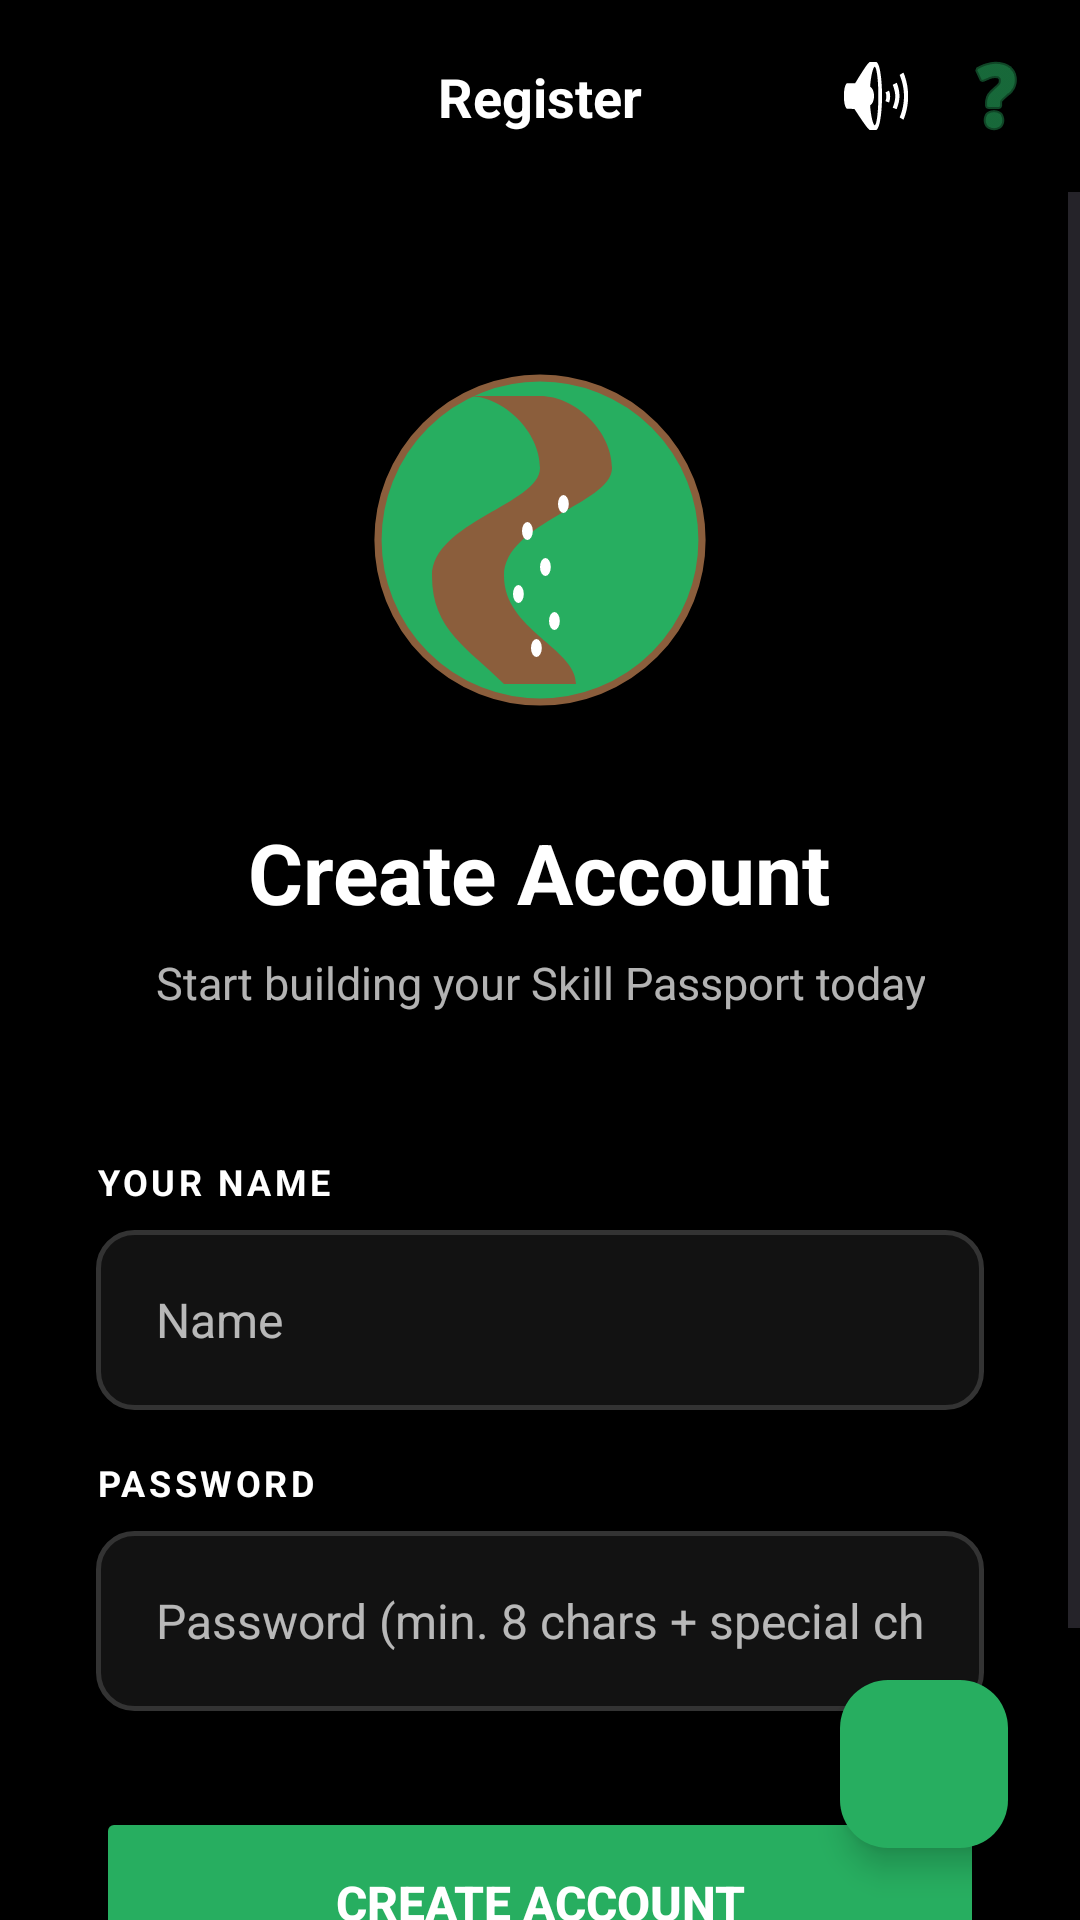

Icon bounding boxes for this 1080px x 1920px phone screenshot, format (x1, y1, x2, y2):
Explain: (975, 62, 1017, 130)
Listen: (844, 62, 908, 130)
